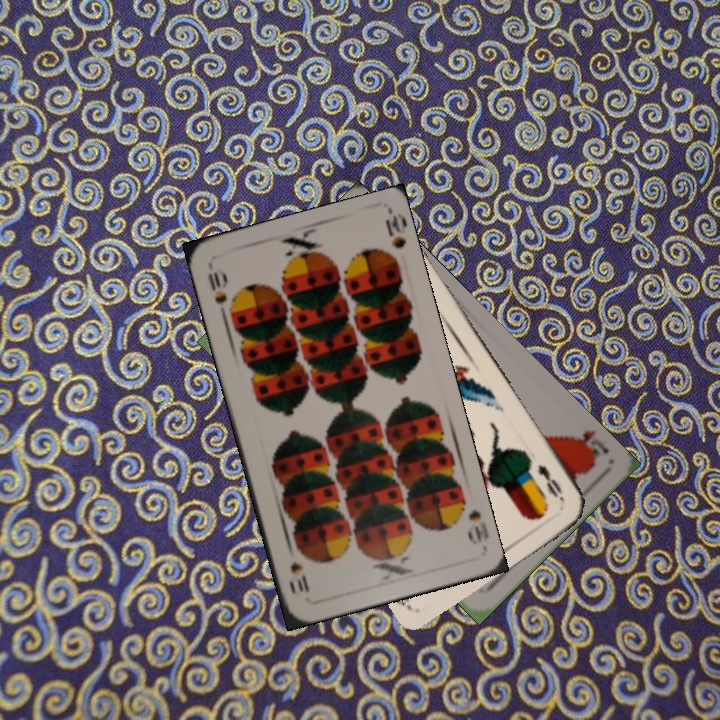EO: (533, 460, 567, 505)
HO: (562, 426, 612, 467)
S10: (453, 494, 491, 547), (203, 268, 230, 307)
